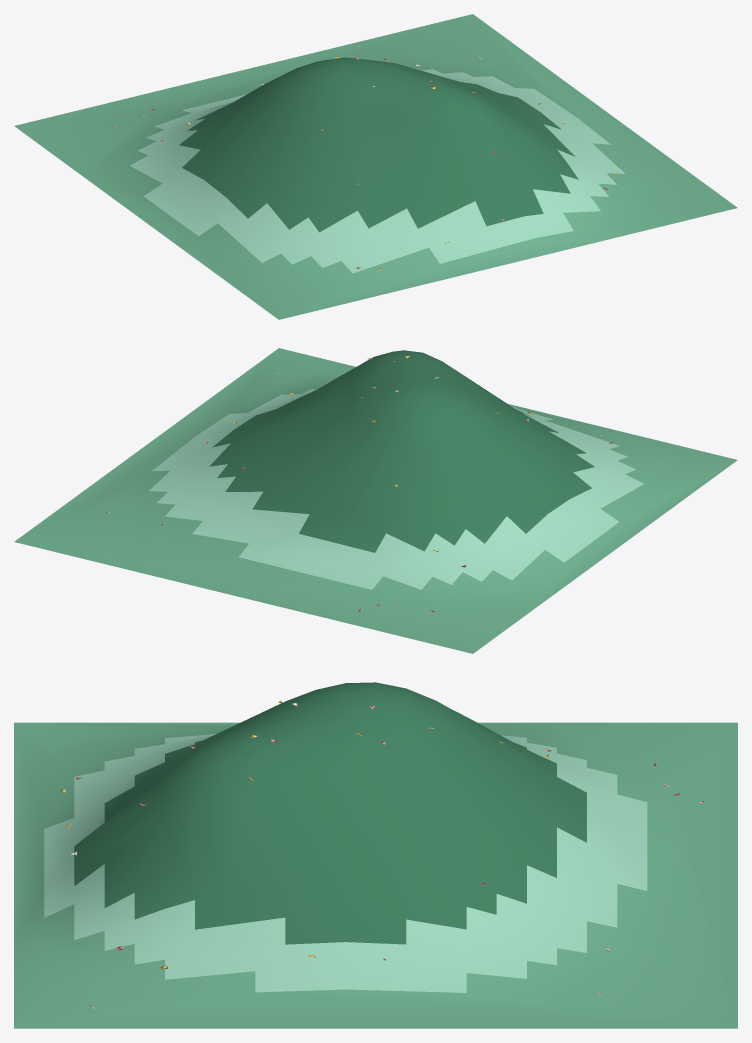
File: land_meadow.glb
3 renders of one model, top to bottom at view 1: azimuth 30°, elevation 25°; view 2: azimuth 150°, elevation 25°; view 3: azimuth 270°, elevation 25°, orthographic. The views are drawn at different scales.
Visible parts, largest first — view 1: land_meadow; view 2: land_meadow; view 3: land_meadow.
Part boxes in pixels (x1,y1,x2,y2): land_meadow: [14, 14, 737, 319]; land_meadow: [14, 348, 737, 653]; land_meadow: [14, 682, 737, 1028].
Bounding box in the file's own units: 40 × 9.58 × 40.
1 material, 1 textured.
